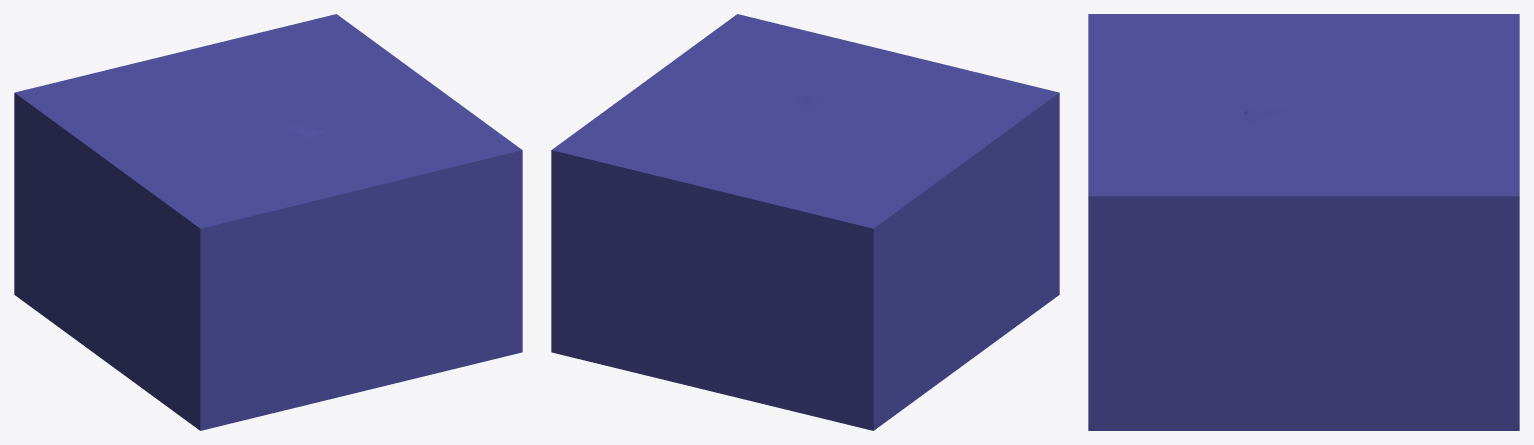
File: SM_Floor_S_V2_Cracked.fbx
3 renders of one model, left to right at view 1: azimuth 30°, elevation 25°; view 2: azimuth 150°, elevation 25°; view 3: azimuth 270°, elevation 25°, orthographic. The views are drawn at different scales.
Parts seen in each view (by area): view 1: shard1, shard2, shard6, shard4, shard3, shard5; view 2: shard2, shard1, shard6, shard5; view 3: shard2, shard1, shard6, shard5.
Part boxes in pixels (box(x1,y1,x2,y2)): shard1: box(14, 87, 413, 430); shard2: box(14, 14, 522, 369); shard6: box(303, 127, 481, 282); shard4: box(388, 251, 492, 378); shard3: box(422, 146, 510, 261); shard5: box(271, 116, 403, 287); shard2: box(551, 14, 893, 430); shard1: box(793, 53, 1059, 416); shard6: box(755, 24, 896, 100); shard5: box(785, 94, 820, 122); shard2: box(1088, 27, 1519, 430); shard1: box(1088, 14, 1519, 110); shard6: box(1088, 103, 1251, 176); shard5: box(1243, 107, 1312, 129).
Size of the model in its own units: 500 by 300 by 500.
